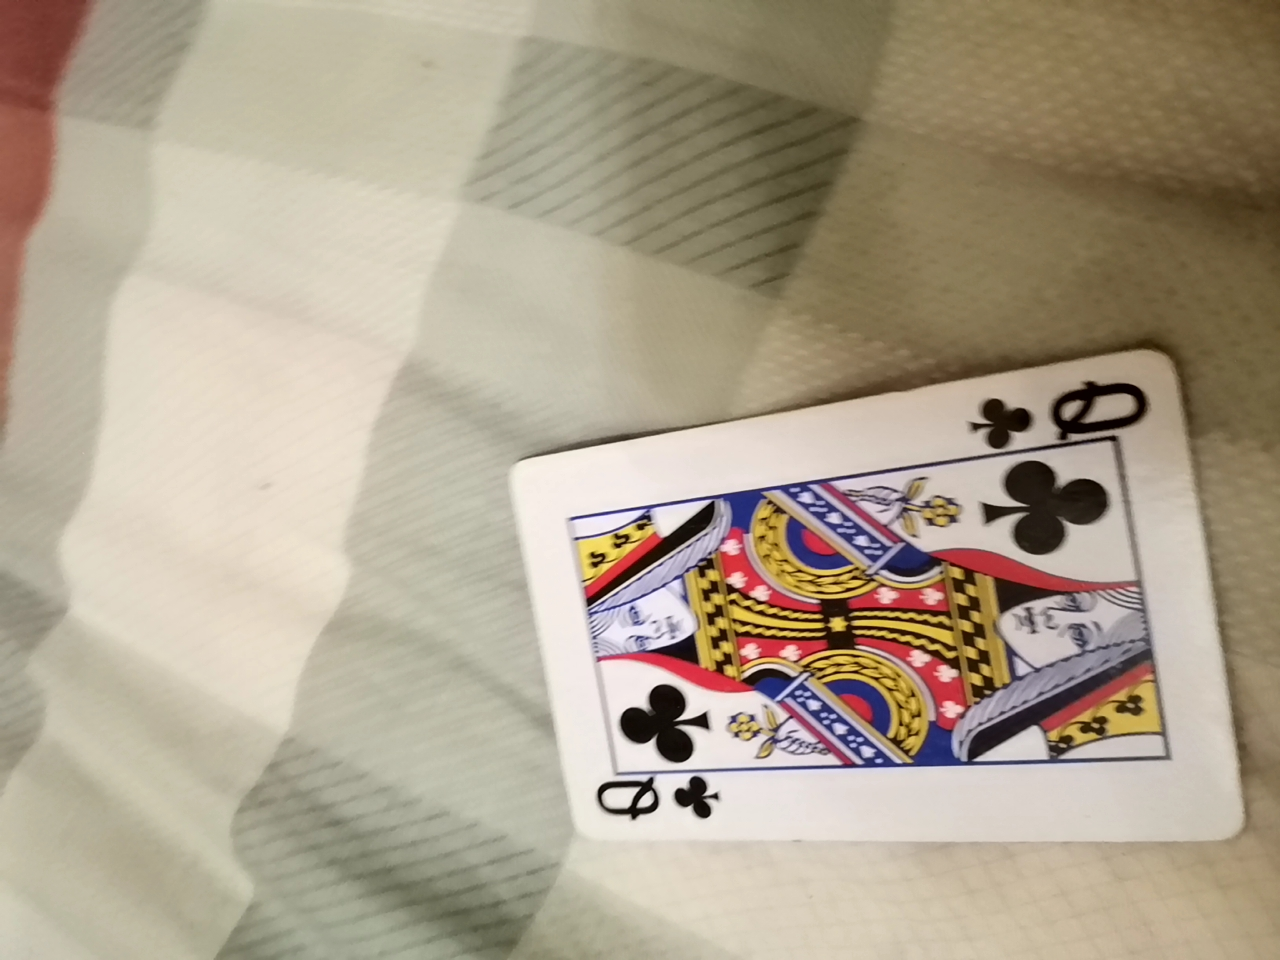mh q: (514, 356, 1234, 862)
